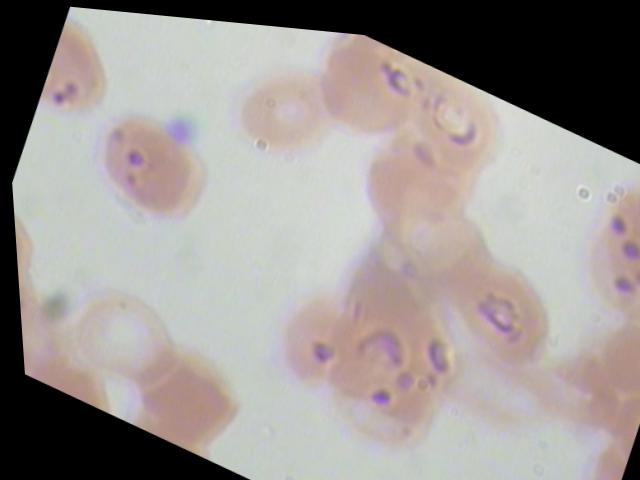Platelets: (157, 100, 210, 152)
Red Blood Cells: (61, 85, 234, 247), (214, 36, 358, 180), (421, 231, 565, 374), (43, 268, 187, 411), (384, 51, 529, 193), (111, 324, 254, 465), (291, 22, 436, 153), (334, 128, 470, 259), (33, 10, 134, 131), (255, 274, 356, 395), (565, 141, 639, 295)
White Blood Cells: (427, 463, 588, 479)
